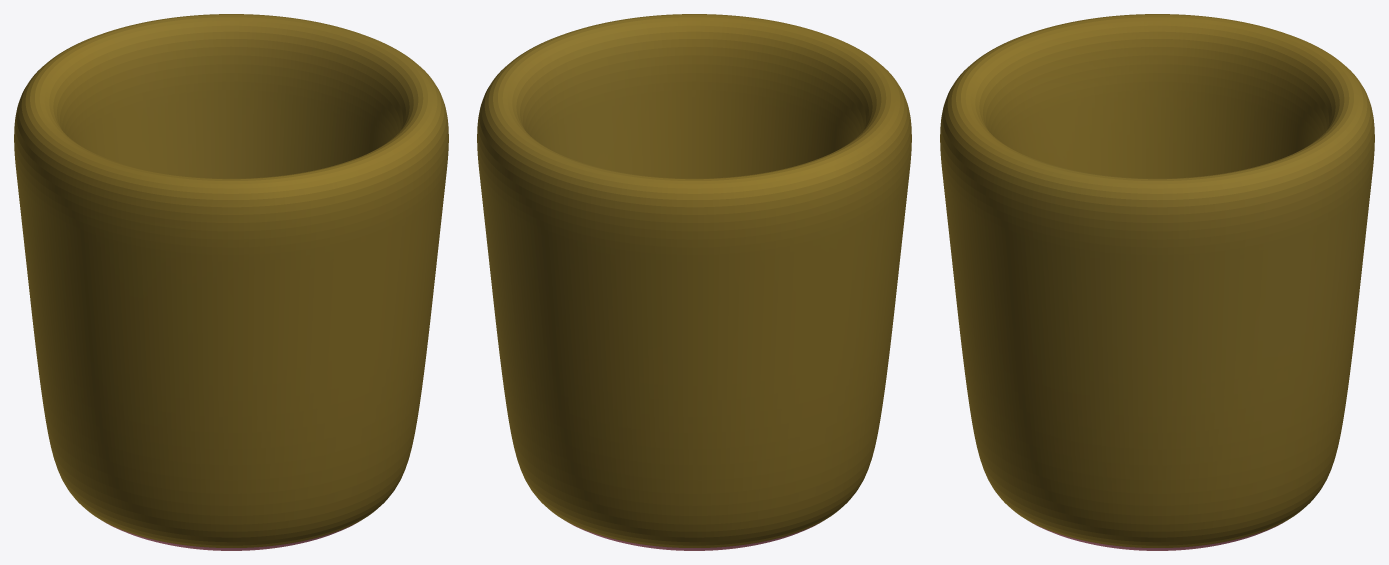
Rendered from plantenbak.fbx.
The picture shows the model from 3 angles, left to right: view 1: azimuth 30°, elevation 25°; view 2: azimuth 150°, elevation 25°; view 3: azimuth 270°, elevation 25°; orthographic projection.
Visible parts, largest first — view 1: Circle; view 2: Circle; view 3: Circle.
Part boxes in pixels (x1,y1,x2,y2): Circle: (14,14,448,550); Circle: (477,14,911,550); Circle: (940,14,1374,550).
Size of the model in its own units: 329 by 335 by 329.
Materials: 1 (1 with a texture image).
